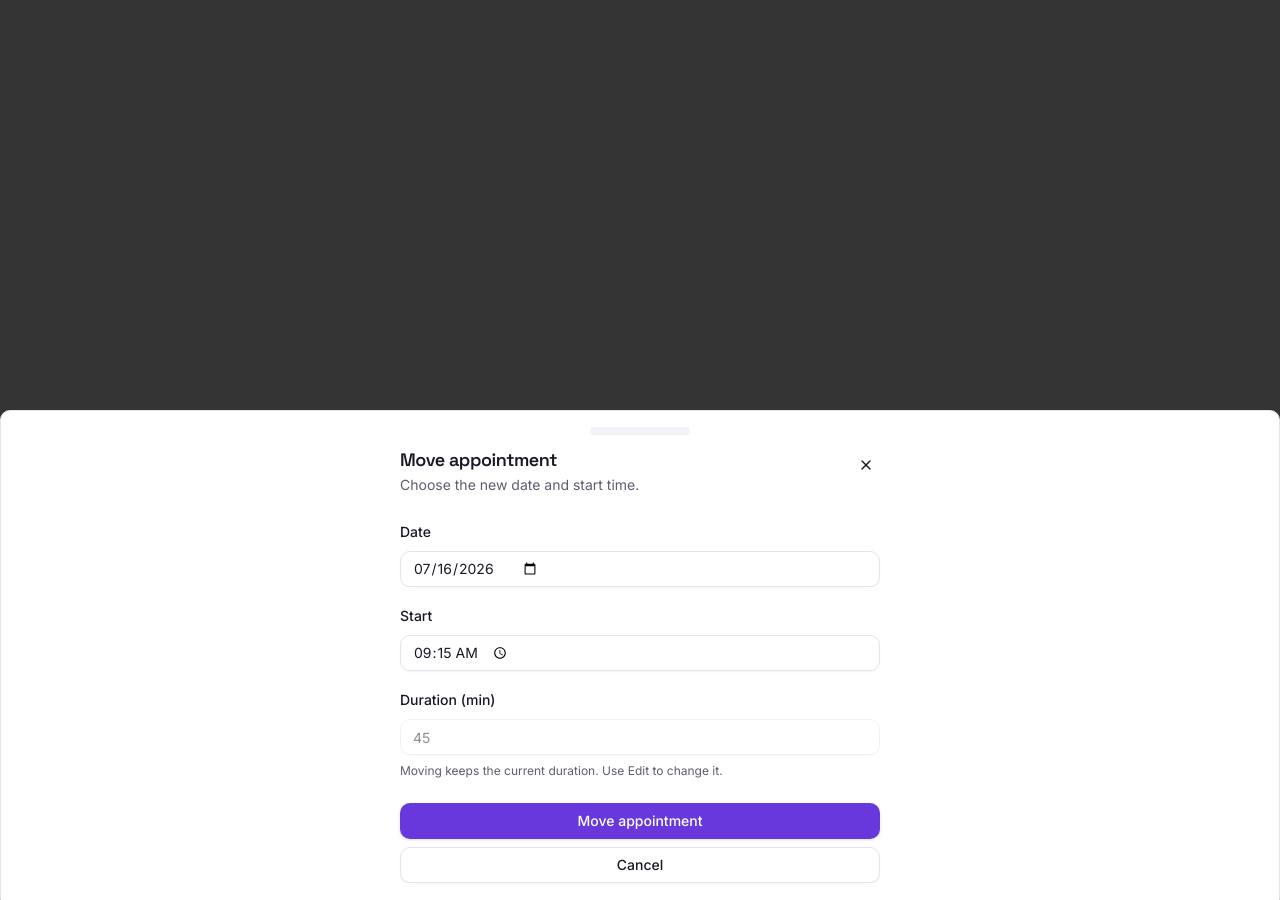
Test: MoveAppointmentSheet › shows warnings and retries with exact codes and a new idempotency key
The width and height of the screenshot is (1280, 900).
Later steps or results of the test are not shown.
Click the button "Move appointment".
click(640, 821)  # box [400,803,880,839]
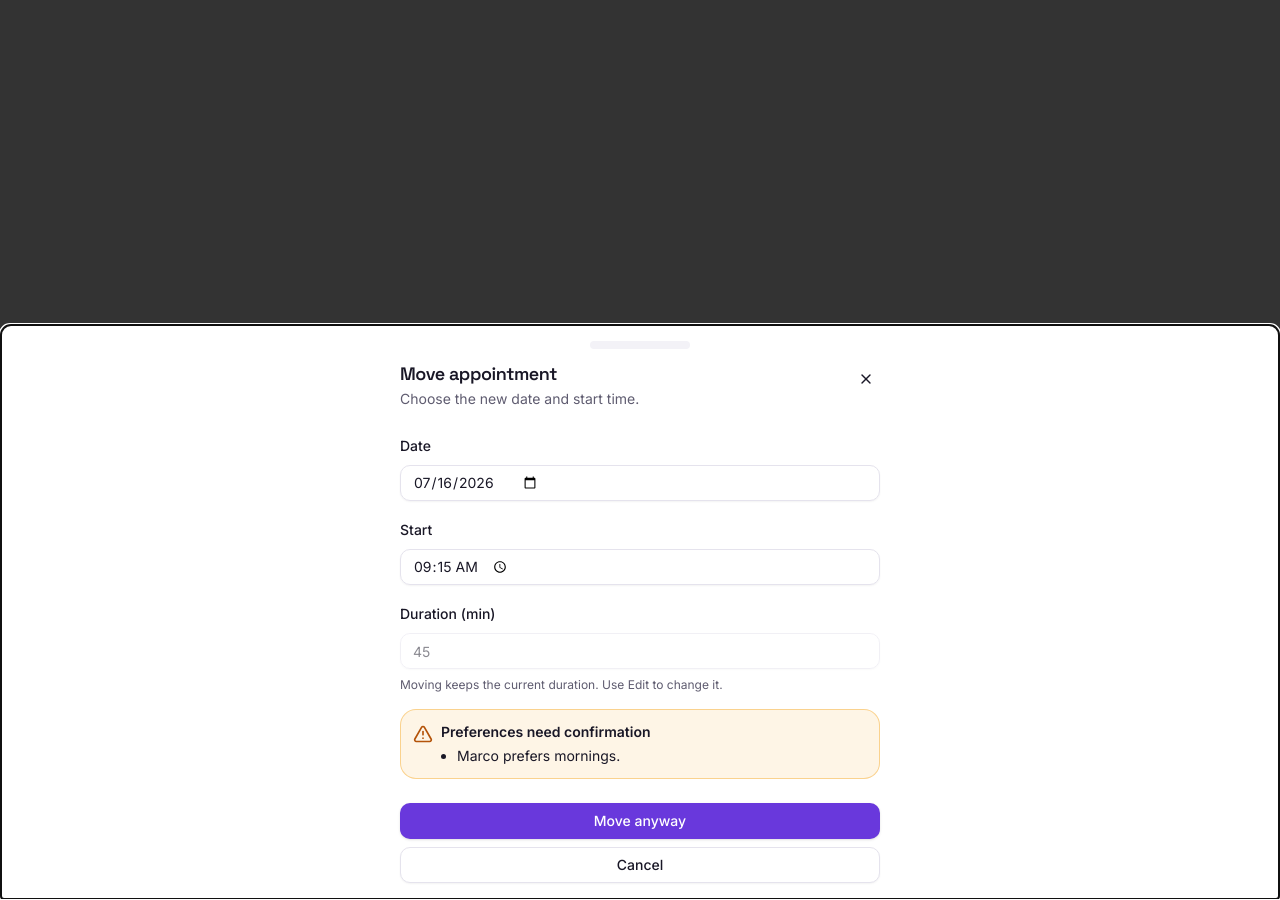
Now the list item "Marco prefers mornings." is shown, box [457,747,620,764]
